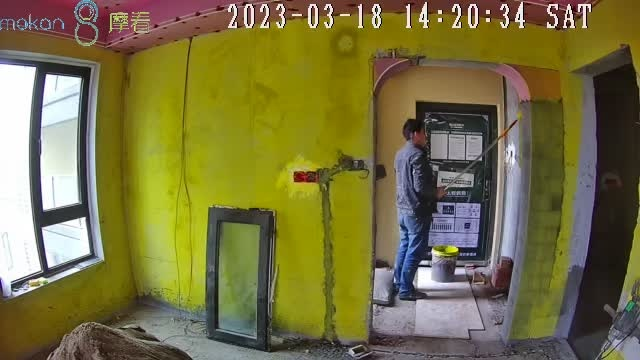people: (395, 117, 446, 301)
window: (1, 56, 93, 285)
